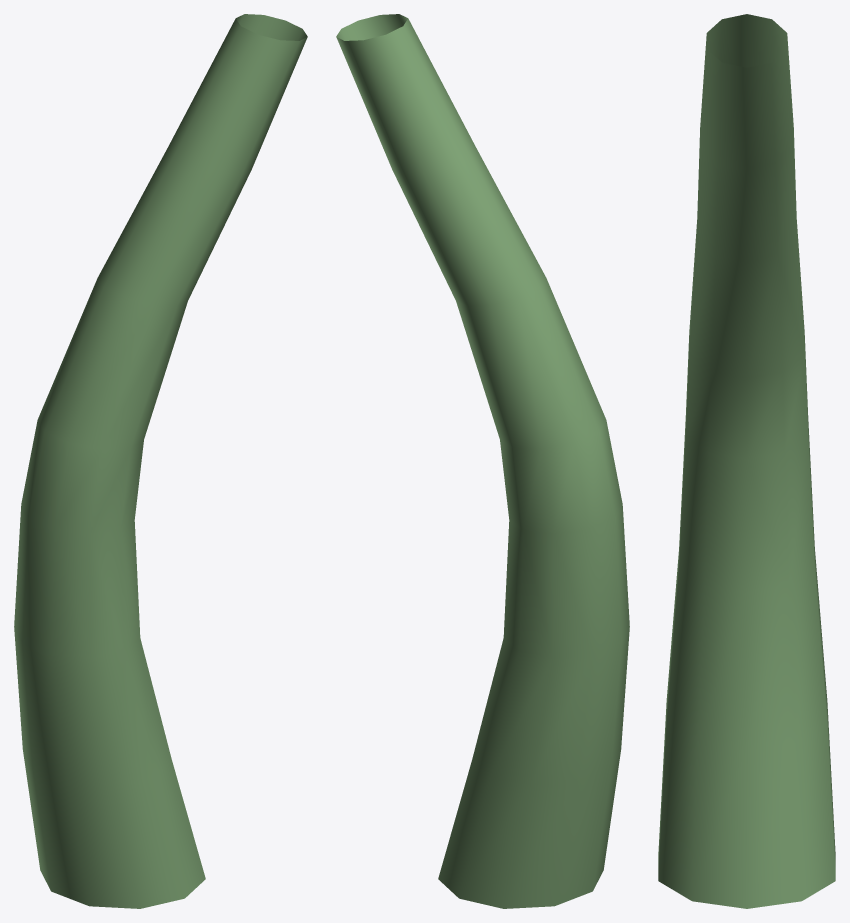
Rendered from Tallo_3.fbx.
The picture shows the model from 3 angles, left to right: view 1: azimuth 30°, elevation 25°; view 2: azimuth 150°, elevation 25°; view 3: azimuth 270°, elevation 25°; orthographic projection. The views are drawn at different scales.
Visible parts, largest first — view 1: Tallo_3; view 2: Tallo_3; view 3: Tallo_3.
Boxes of the visible parts, <box> form: Tallo_3: <box>14,14,307,908</box>; Tallo_3: <box>336,14,629,908</box>; Tallo_3: <box>658,14,835,908</box>.
Size of the model in its own units: 0.3555 by 0.9947 by 0.174.
